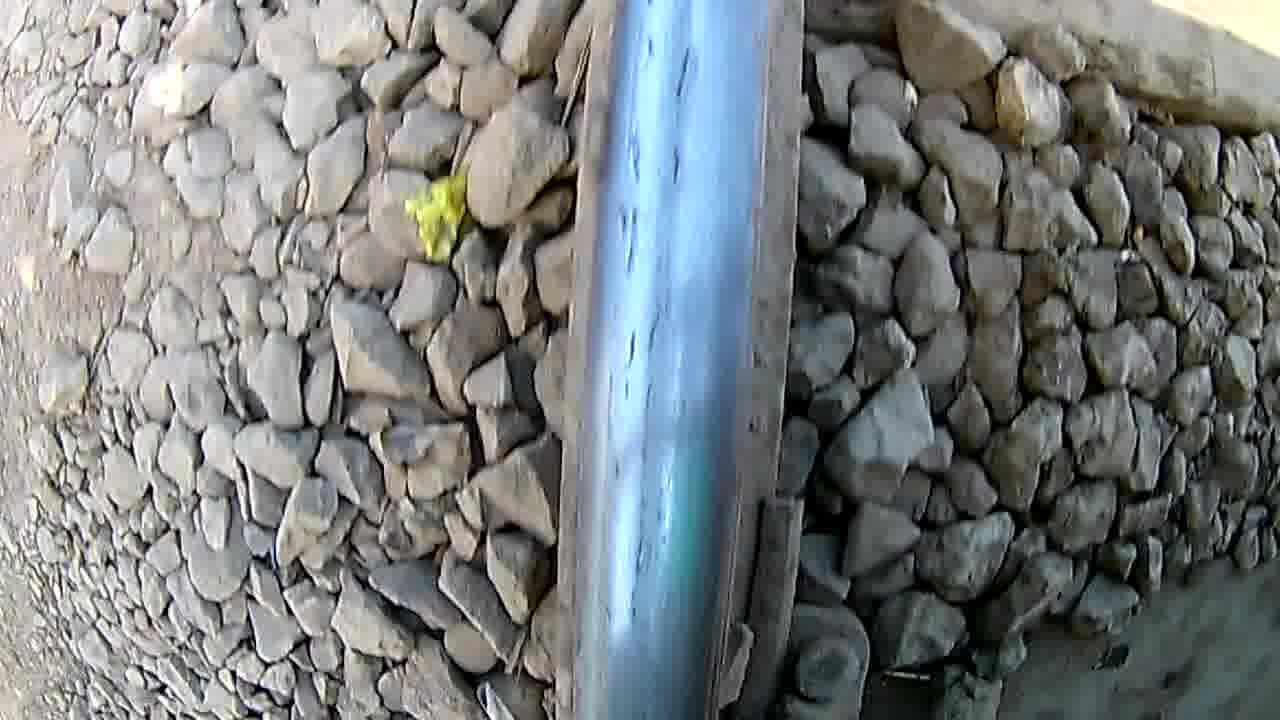normal_track: (610, 30, 700, 609)
